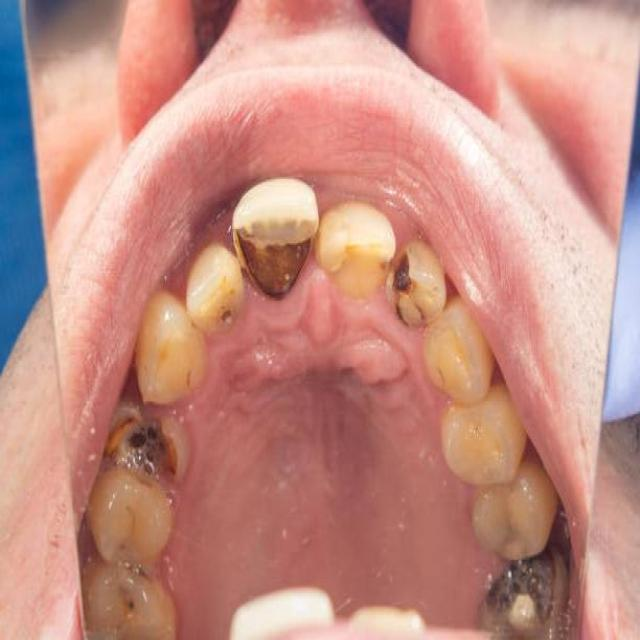caries: (108, 412, 186, 485), (216, 292, 240, 334)
